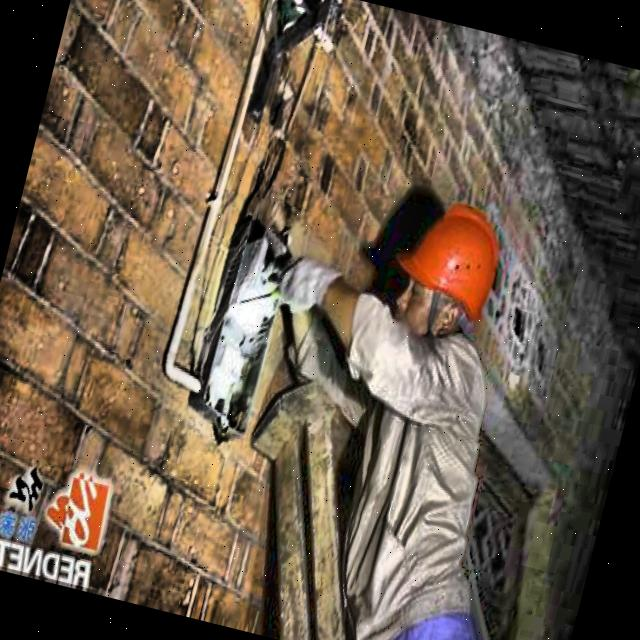helmet: (379, 191, 518, 366)
